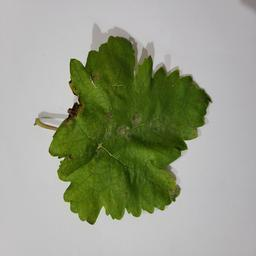Powdery-Mildew: (79, 69, 105, 107), (65, 115, 91, 143), (119, 113, 150, 134), (176, 115, 200, 138), (127, 144, 155, 162), (159, 170, 178, 196)
